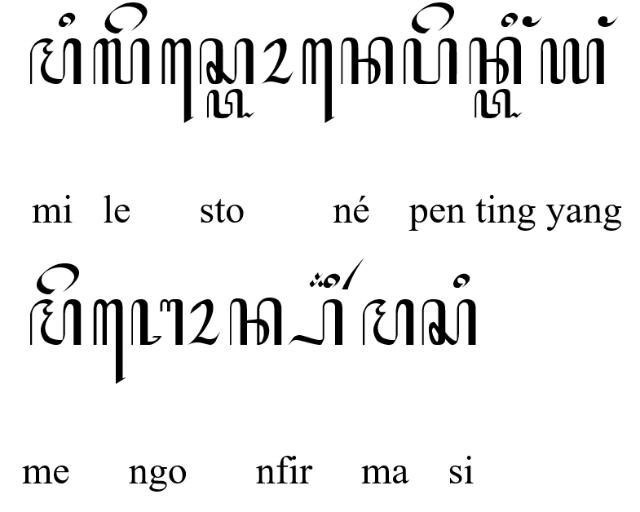_p: (287, 298, 343, 346)
_r1: (342, 256, 366, 290)
_t: (474, 86, 522, 120), (206, 88, 254, 118)
alt: (308, 272, 330, 288)
e: (411, 1, 455, 35), (35, 262, 79, 296), (104, 2, 148, 34)
e1: (301, 36, 335, 124), (92, 300, 126, 384), (160, 38, 193, 122)
i: (58, 11, 76, 27), (500, 12, 518, 28), (453, 272, 471, 288), (324, 272, 340, 288)
l: (92, 37, 152, 85)
m: (28, 37, 82, 85), (28, 300, 84, 346), (362, 298, 414, 346)
n: (466, 36, 524, 86), (341, 35, 394, 85), (230, 298, 282, 346)
ng: (522, 14, 542, 28), (598, 14, 618, 28)
nga: (130, 296, 184, 346)
o: (260, 37, 294, 85), (188, 300, 220, 344)
p: (402, 37, 458, 87)
s: (422, 296, 478, 346), (198, 37, 255, 85)
y: (540, 38, 604, 84)
